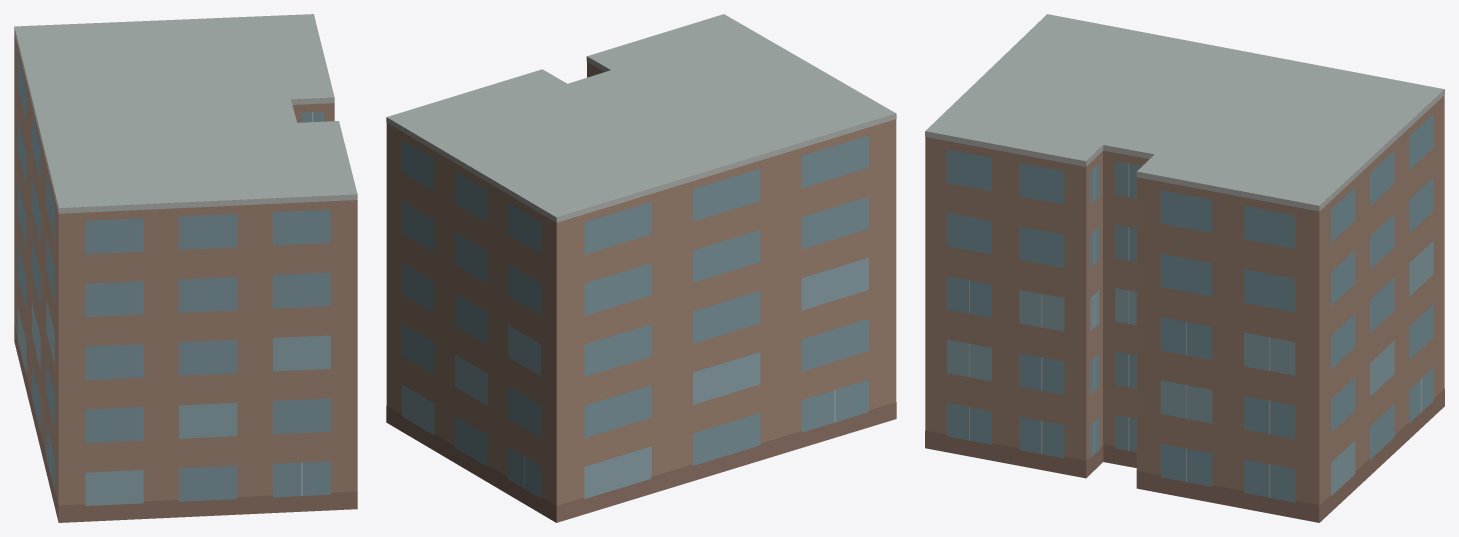
File: survey-upis-32669524.glb
3 renders of one model, left to right at view 1: azimuth 30°, elevation 25°; view 2: azimuth 150°, elevation 25°; view 3: azimuth 270°, elevation 25°, orthographic. The views are drawn at different scales.
Visible parts, largest first — view 1: survey-upis-32669524.tmp; view 2: survey-upis-32669524.tmp; view 3: survey-upis-32669524.tmp.
Part boxes in pixels (box(x1,y1,x2,y2)): survey-upis-32669524.tmp: box(14, 14, 357, 522); survey-upis-32669524.tmp: box(386, 14, 896, 522); survey-upis-32669524.tmp: box(925, 14, 1444, 522).
Bounding box in the file's own units: 17.79 × 13.7 × 20.36.
